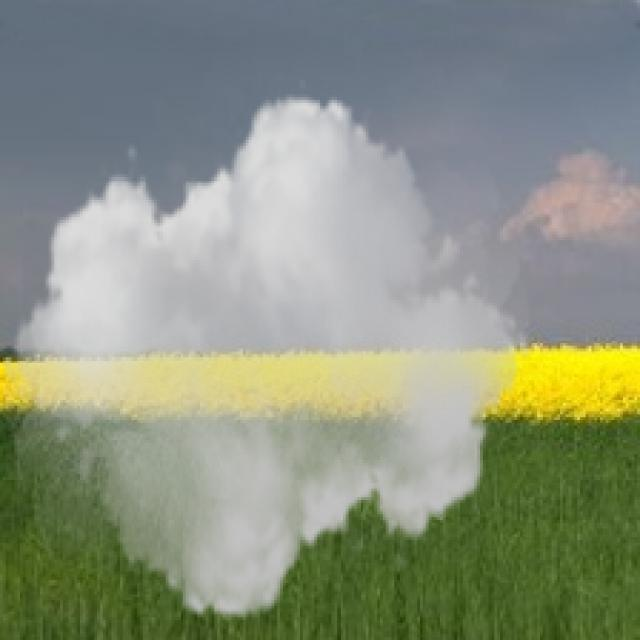smoke: (3, 74, 534, 637)
